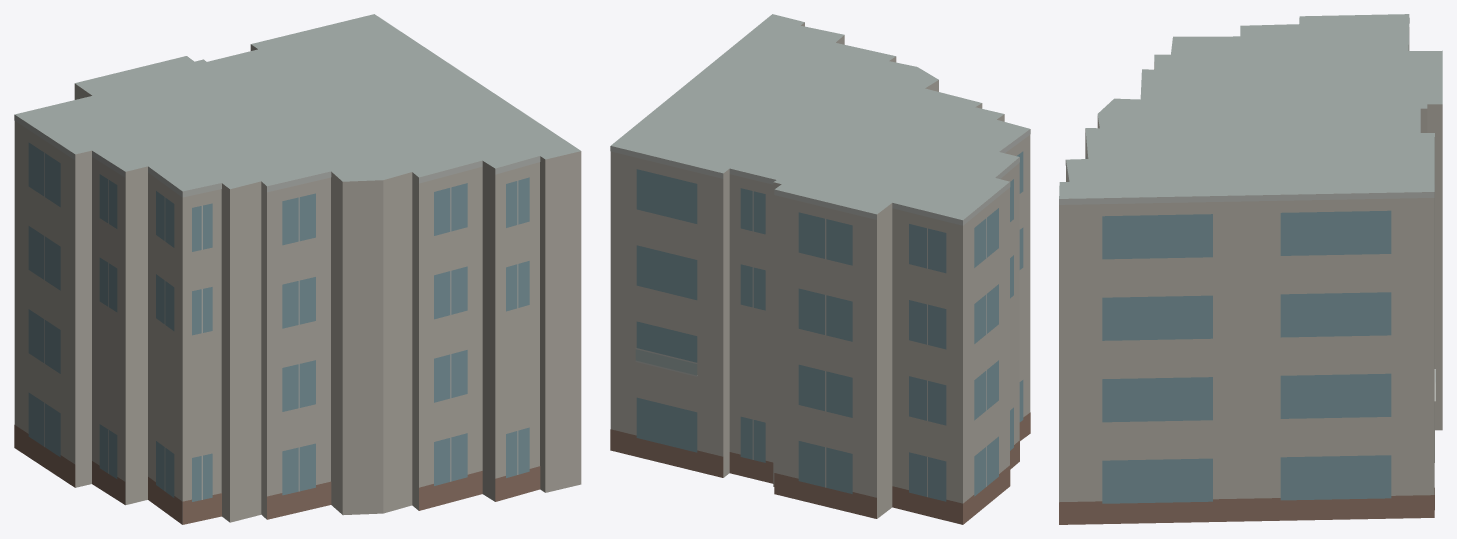
The model's file is survey-upis-32980493.glb.
The picture shows the model from 3 angles, left to right: view 1: azimuth 30°, elevation 25°; view 2: azimuth 150°, elevation 25°; view 3: azimuth 270°, elevation 25°; orthographic projection. The views are drawn at different scales.
Parts seen in each view (by area): view 1: survey-upis-32980493.tmp; view 2: survey-upis-32980493.tmp; view 3: survey-upis-32980493.tmp.
Part boxes in pixels (left/top/right/bottom): survey-upis-32980493.tmp: left=14, top=14, right=581, bottom=524; survey-upis-32980493.tmp: left=610, top=14, right=1030, bottom=524; survey-upis-32980493.tmp: left=1059, top=14, right=1442, bottom=524.
Bounding box in the file's own units: 16.27 × 13.36 × 14.26.
